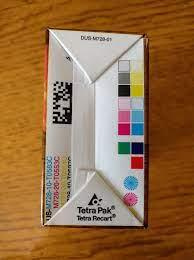cardboard: (42, 29, 147, 225)
